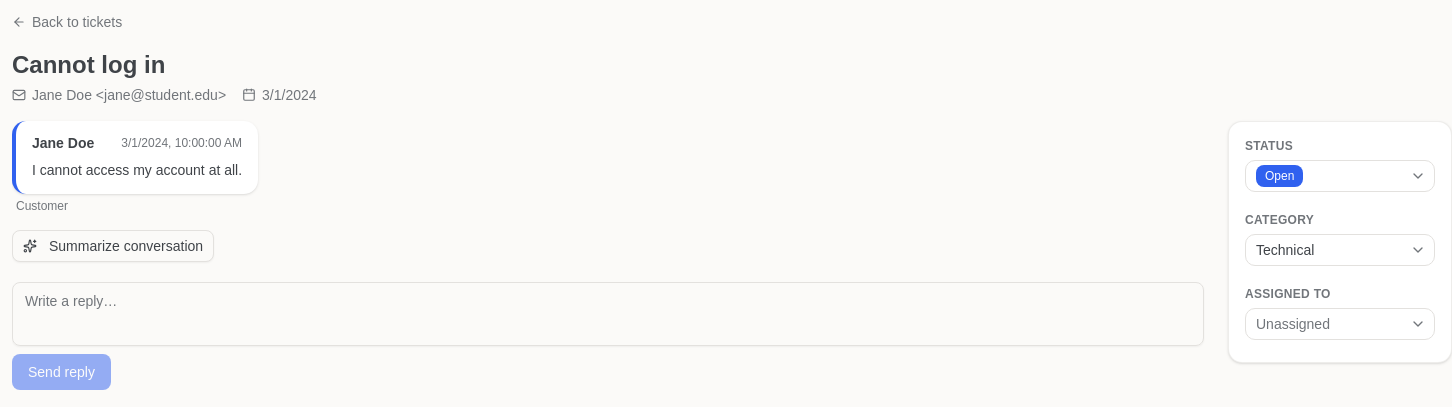
Test: Reply Form › enables the Send button once text is entered
Type "Hello" into the text box with placeholder "Write a reply…" at [608, 314], box [12,282,1204,346]
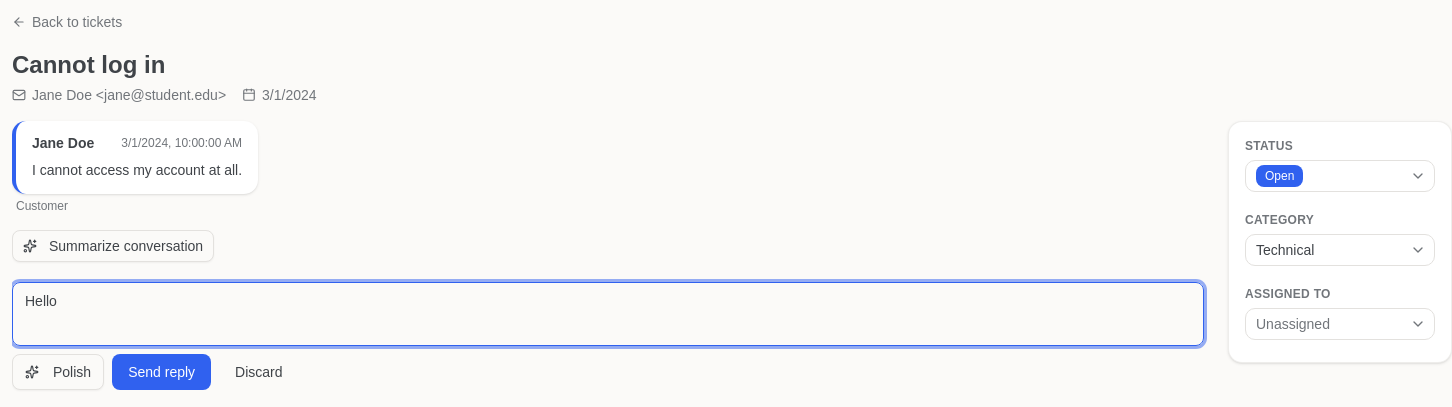
Expected: the button "Send reply" is enabled, [112,354,211,390]
